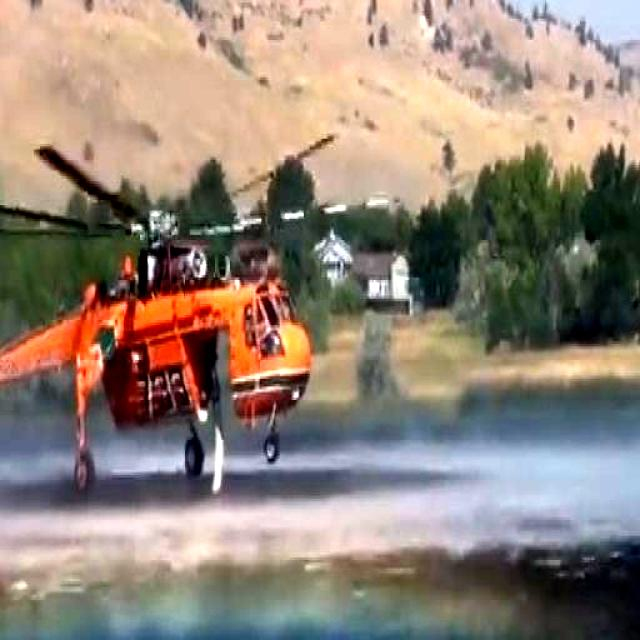drone: (0, 136, 391, 506)
